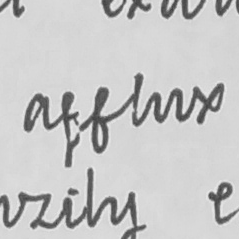a: (20, 91, 53, 134)
f: (58, 90, 81, 169), (87, 84, 112, 155)
l: (127, 70, 148, 129)
u: (149, 85, 185, 125)
x: (189, 80, 226, 127)
